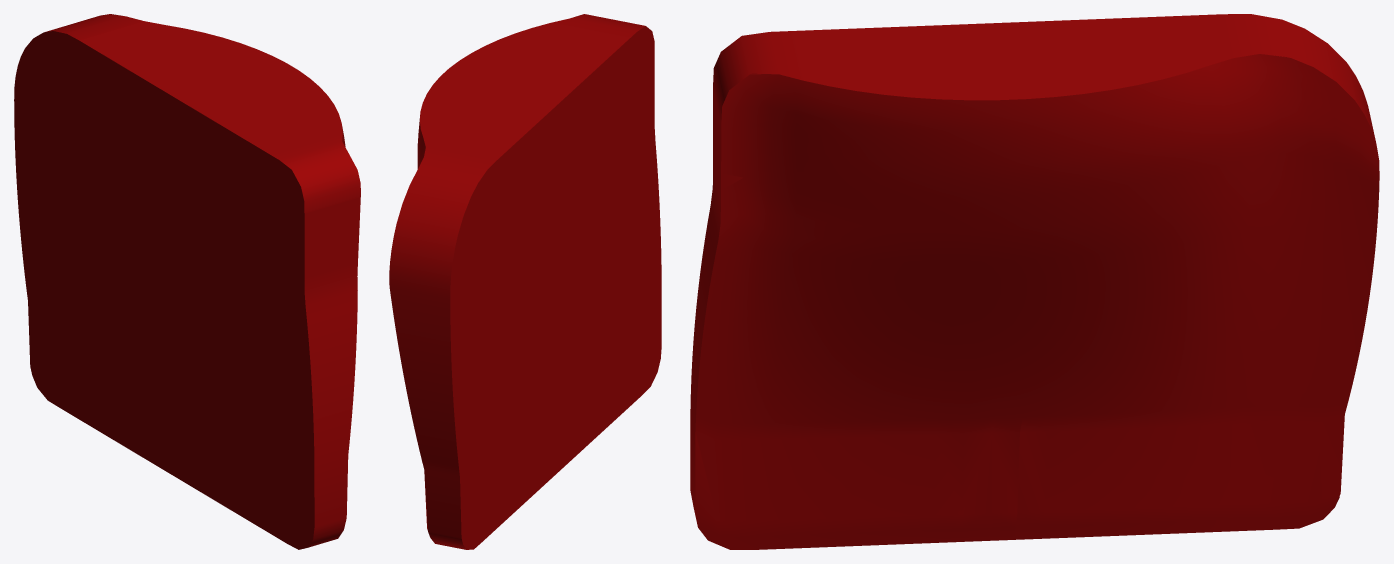
File: original-11.obj
The picture shows the model from 3 angles, left to right: view 1: azimuth 30°, elevation 25°; view 2: azimuth 150°, elevation 25°; view 3: azimuth 270°, elevation 25°; orthographic projection. The views are drawn at different scales.
Visible parts, largest first — view 1: mesh11/mesh11-geometry#mesh11-geometry; view 2: mesh11/mesh11-geometry#mesh11-geometry; view 3: mesh11/mesh11-geometry#mesh11-geometry.
Part boxes in pixels (x1,y1,x2,y2): mesh11/mesh11-geometry#mesh11-geometry: [14, 14, 360, 549]; mesh11/mesh11-geometry#mesh11-geometry: [389, 14, 661, 549]; mesh11/mesh11-geometry#mesh11-geometry: [690, 14, 1379, 549].
Bounding box in the file's own units: 0.1598 × 0.4042 × 0.5068.
